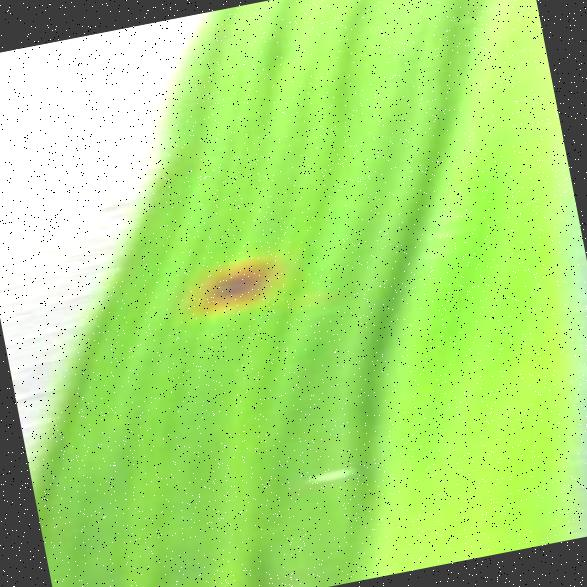Brown_Spot: (162, 219, 299, 345), (285, 440, 367, 503)
